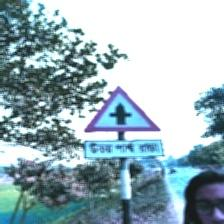Crossroad: (83, 86, 165, 160)
